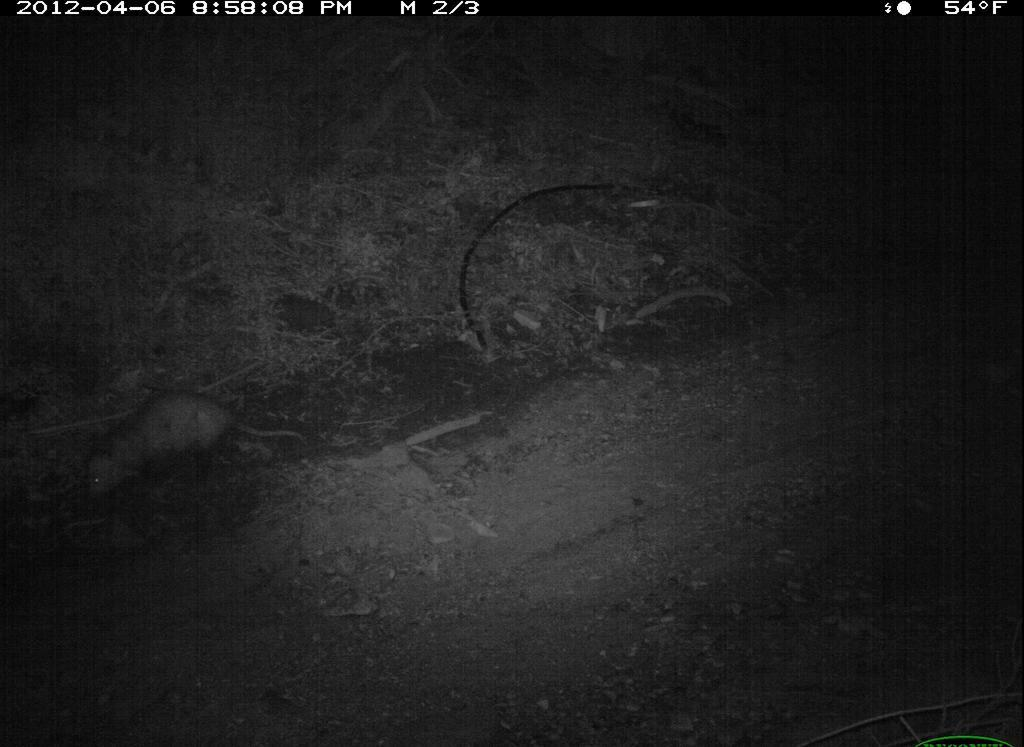opossum: (70, 386, 315, 505)
